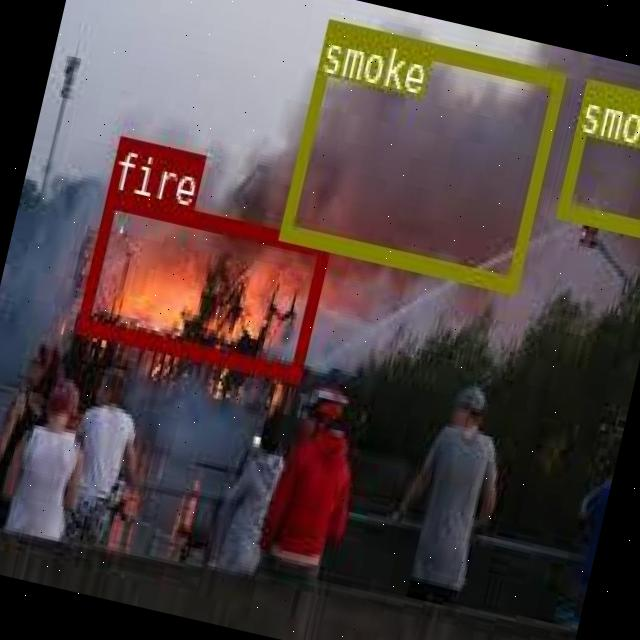fire: (76, 187, 330, 378)
smoke: (278, 18, 564, 289), (554, 74, 640, 235)
